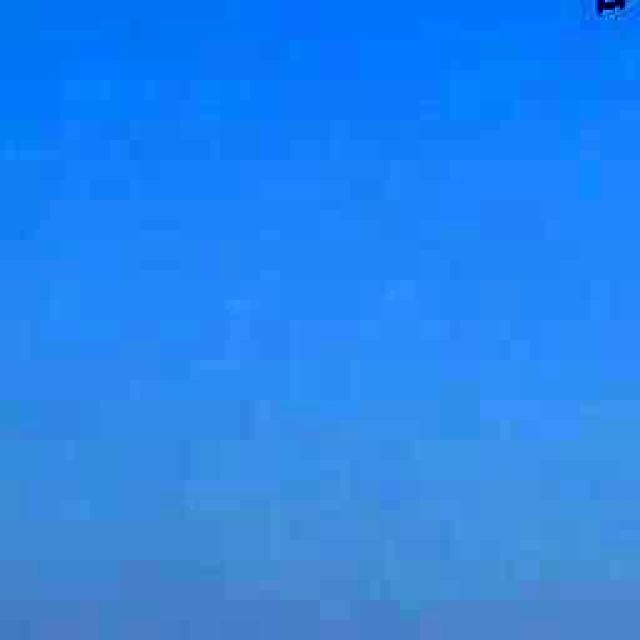bird: (550, 0, 640, 52)
